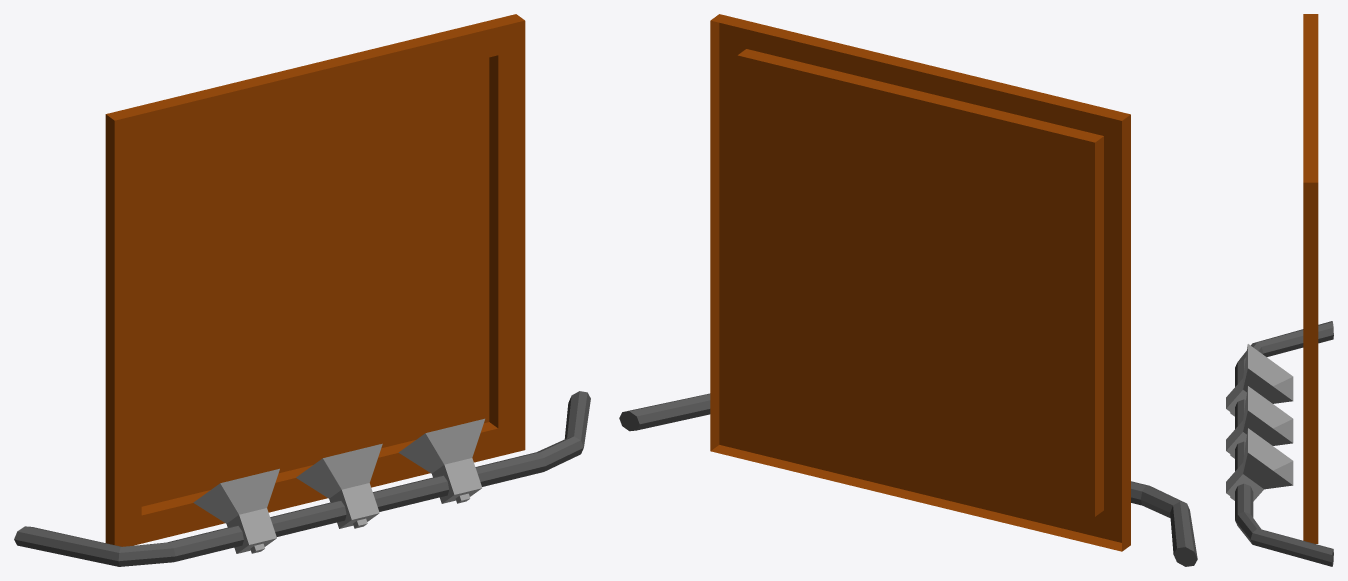
The model's file is frame.glb.
3 views of the same model, side by side, from view 1: azimuth 30°, elevation 25°; view 2: azimuth 150°, elevation 25°; view 3: azimuth 270°, elevation 25° (orthographic). The views are drawn at different scales.
Visible parts, largest first — view 1: Plane, Cylinder, Light.001, Light, Light.002; view 2: Plane, Cylinder; view 3: Plane, Cylinder, Light.002, Light.001, Light.
Part boxes in pixels (x1,y1,x2,y2): Plane: [105, 14, 525, 546]; Cylinder: [14, 391, 590, 566]; Light.001: [193, 468, 279, 553]; Light: [296, 443, 382, 528]; Light.002: [398, 418, 484, 503]; Plane: [710, 14, 1130, 551]; Cylinder: [619, 393, 1197, 566]; Plane: [1303, 14, 1318, 543]; Cylinder: [1235, 321, 1333, 566]; Light.002: [1226, 428, 1293, 501]; Light.001: [1226, 344, 1293, 416]; Light: [1226, 386, 1293, 458].
Bounding box in the file's own units: 2.81 × 2.01 × 0.5406.
